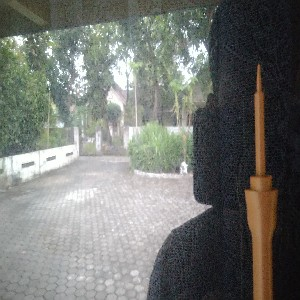solder: (244, 62, 278, 300)
